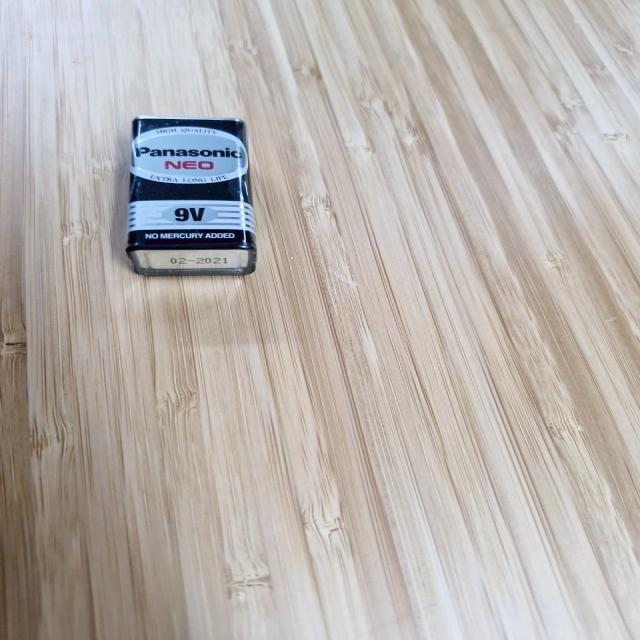battery: (106, 109, 284, 279)
